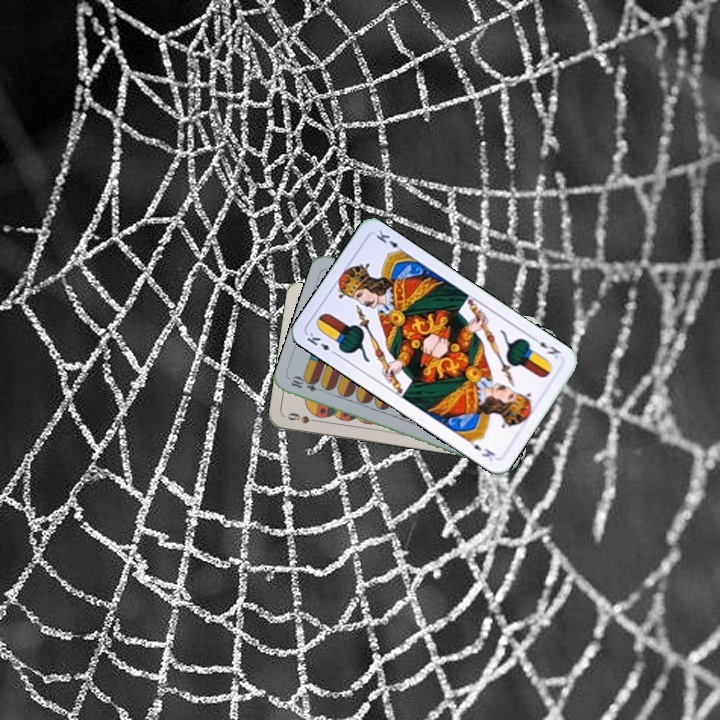E10: (287, 374, 327, 395)
EK: (302, 328, 340, 358), (528, 333, 563, 362)
S9: (284, 408, 323, 426)
